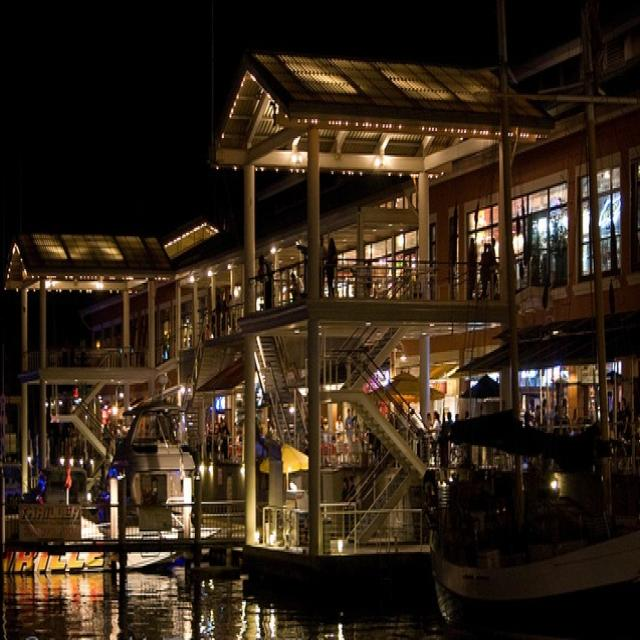Boat: (412, 404, 640, 633), (106, 394, 199, 507)
People: (256, 246, 279, 306), (325, 233, 343, 286), (479, 241, 494, 302), (468, 235, 478, 308)
